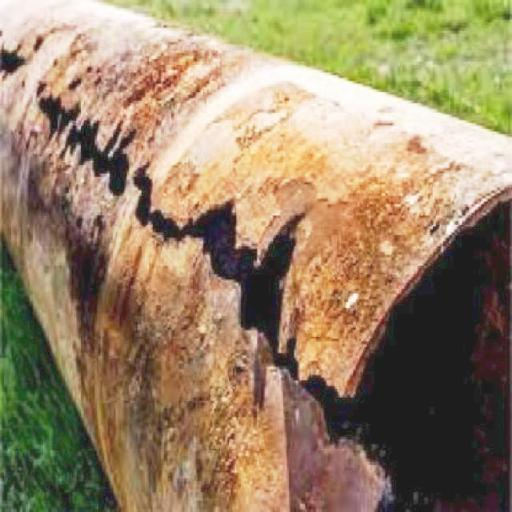corrosion: (7, 126, 273, 509), (328, 156, 416, 318), (126, 33, 229, 106)
crack: (23, 54, 336, 478)
